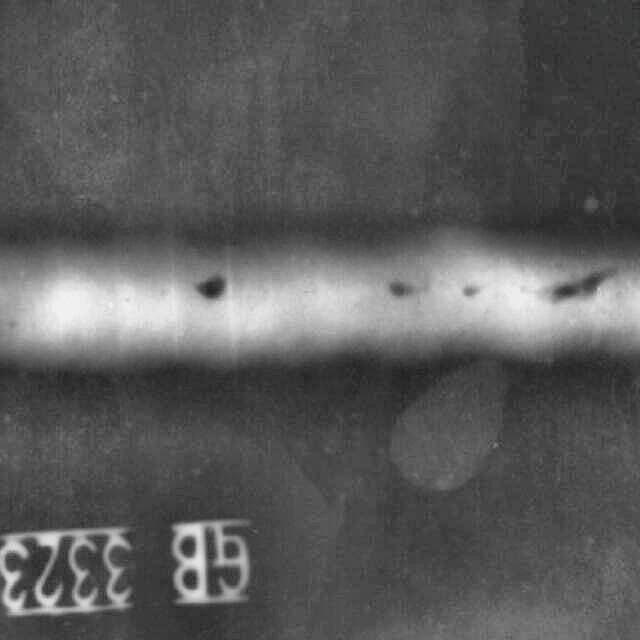Slag: (389, 264, 640, 323), (162, 268, 247, 310)
